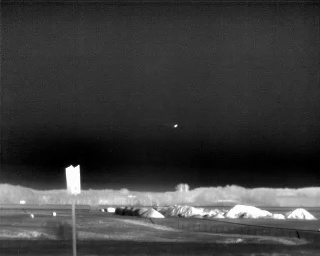BIRD: (172, 122, 179, 130)
